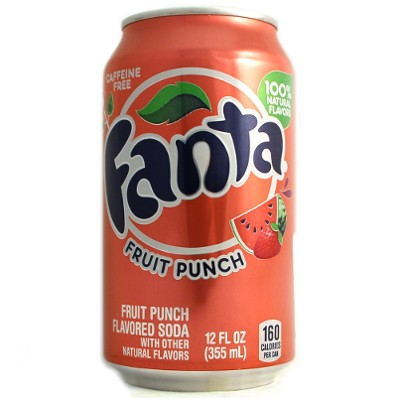Fanta: (70, 6, 324, 393)
